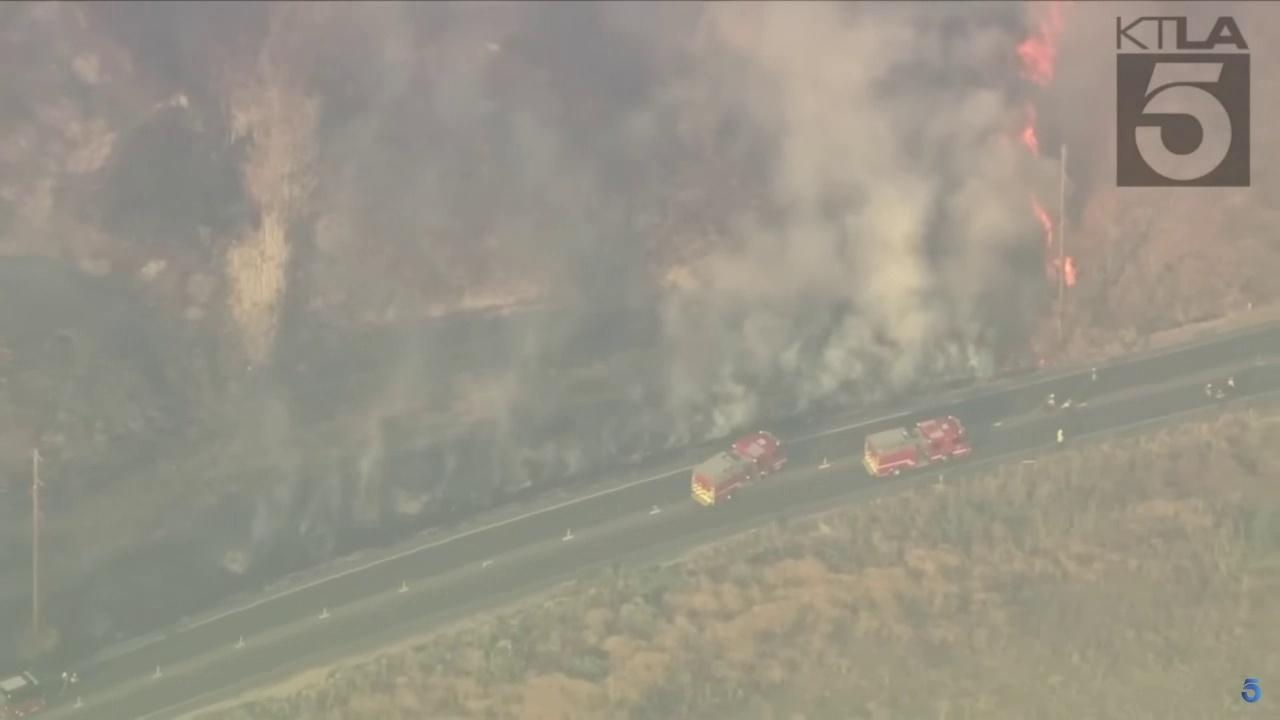fire: (1014, 0, 1068, 90), (1029, 193, 1077, 288), (1022, 100, 1043, 162)
smoke: (0, 0, 1073, 591)
